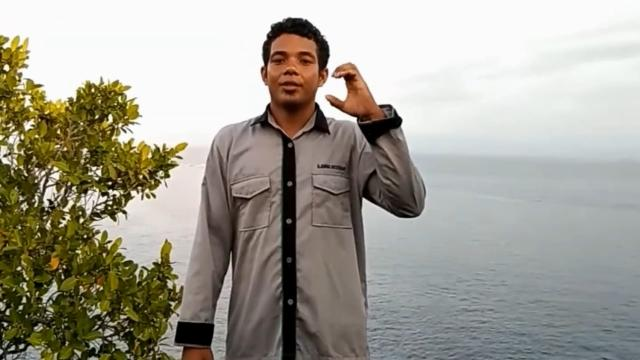C: (324, 62, 380, 118)
